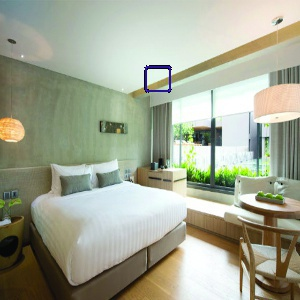square: (141, 62, 174, 95)
